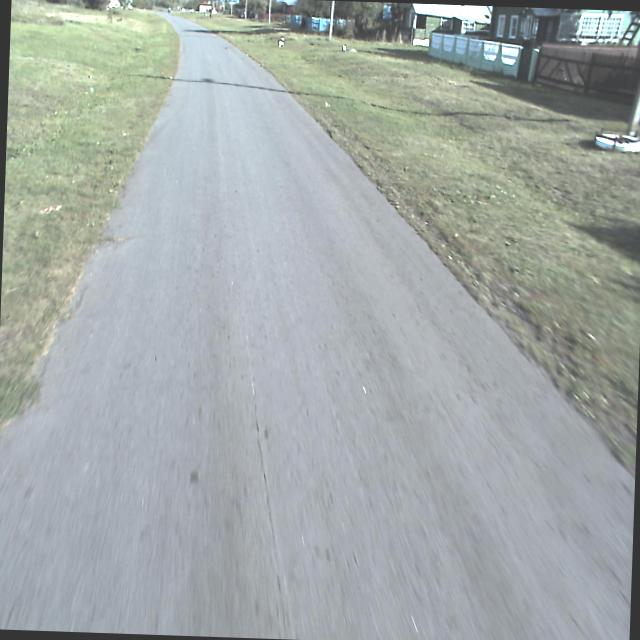road: (0, 11, 634, 640)
